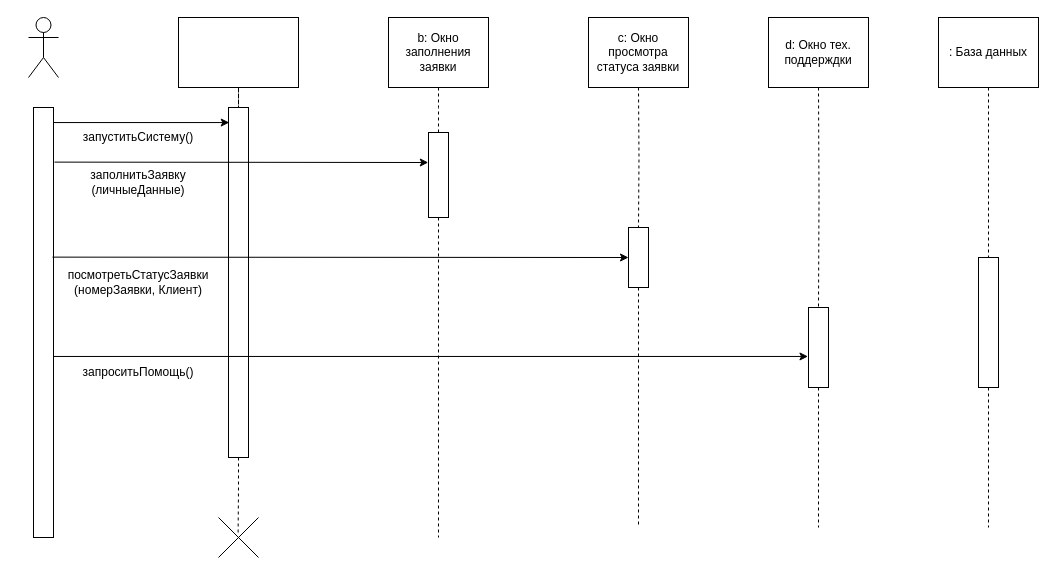
Image size: 1056x575. Some labels were removed from this diagram. Here are the shapes that lost their labels. From the top down, the centre of each, then its label:
At point 43,47: "a: Клиент".
At point 238,52: ":Система".
